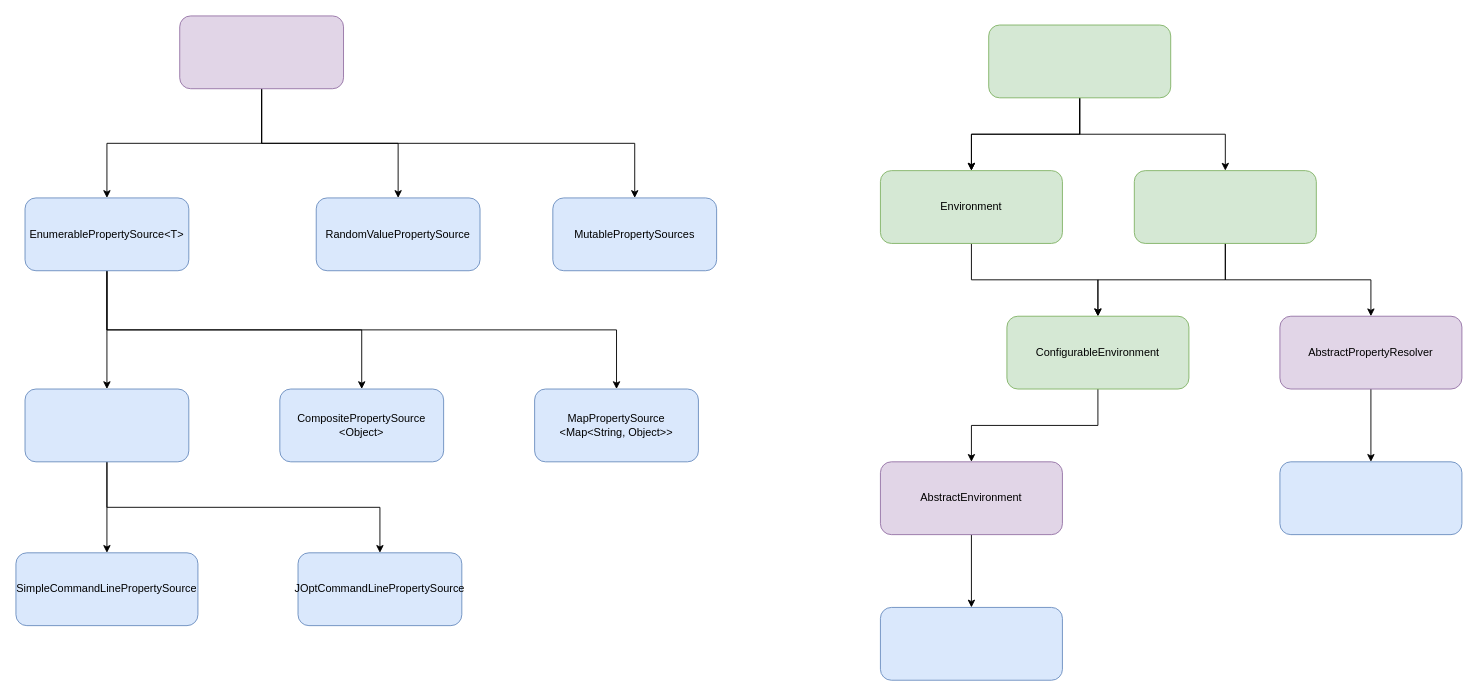
This 1478x696 diagram has some shape labels left out. Here are the shapes that lost their labels. From the top down, the box of each, then its label:
(179, 15, 344, 89): PropertySource<T>
(988, 24, 1171, 98): PropertyResolver
(1133, 170, 1316, 243): ConfigurablePropertyResolver
(24, 388, 189, 462): CommandLinePropertySource <T>
(1279, 461, 1462, 535): PropertySourcesPropertyResolver
(880, 607, 1062, 680): StandardEnvironment
